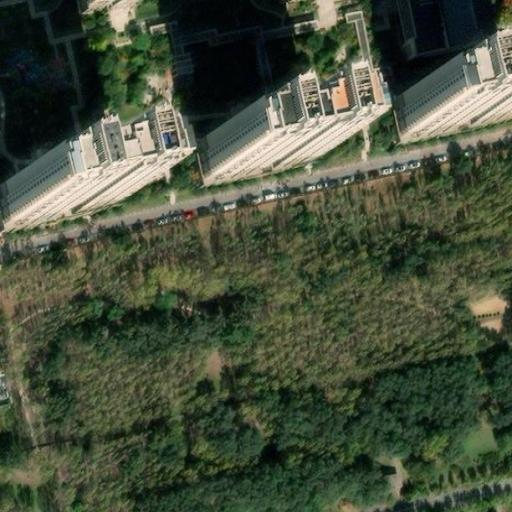building: (200, 104, 332, 180), (2, 149, 135, 222), (386, 70, 512, 145)
